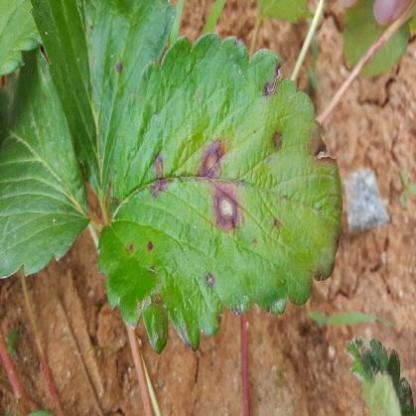Strawberry_Leaf_Spot: (96, 32, 344, 357), (29, 0, 178, 209)
